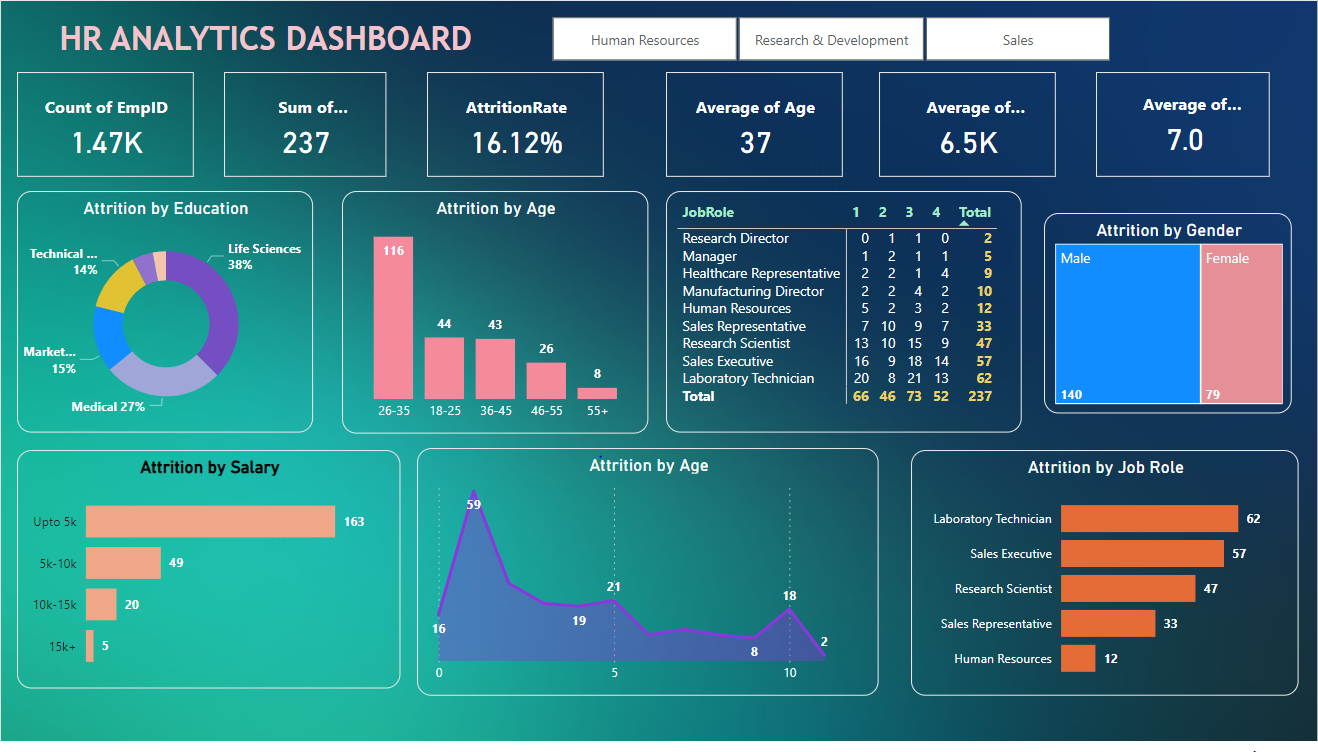

What the dashboard file says about the page in this screenshot:
{"tool":"powerbi","page":{"name":"Page 1","canvas":[1280,720],"ordinal":0},"visuals":[{"type":"cardVisual","title":"Count of Employee","fields":{"Data":["CountNonNull(HR_Analytics.EmpID)"]},"box":[15.6,69.1,172.2,102.1],"z":0},{"type":"cardVisual","title":"Attrition","fields":{"Data":["Sum(HR_Analytics.AttritionCount)"]},"box":[216.9,69.1,157.6,102.1],"z":1000},{"type":"cardVisual","fields":{"Data":["HR_Analytics.AttritionRate"]},"box":[414.3,69.1,172.2,102.1],"z":2000},{"type":"cardVisual","fields":{"Data":["Avg(HR_Analytics.Age)"]},"box":[646.8,69.1,172.2,102.1],"z":3000},{"type":"cardVisual","title":"Avg Years","fields":{"Data":["Avg(HR_Analytics.YearsAtCompany)"]},"box":[1065,69.1,169.2,102.1],"z":4000},{"type":"cardVisual","fields":{"Data":["Avg(HR_Analytics.MonthlyIncome)"]},"box":[854,69.1,172.2,102.1],"z":5000},{"type":"donutChart","title":"Attrition by Education","fields":{"Category":["HR_Analytics.EducationField"],"Y":["Sum(HR_Analytics.AttritionCount)"]},"box":[15.6,184.8,287.9,235.4],"z":6000},{"type":"columnChart","title":"Attrition by Age","fields":{"Category":["HR_Analytics.AgeGroup"],"Y":["Sum(HR_Analytics.AttritionCount)"]},"box":[331.7,184.8,297.6,236.4],"z":7000},{"type":"pivotTable","fields":{"Rows":["HR_Analytics.JobRole"],"Columns":["HR_Analytics.JobSatisfaction"],"Values":["Sum(HR_Analytics.AttritionCount)"]},"box":[646.8,184.8,346.3,235.4],"z":8000},{"type":"barChart","title":"Attrition by Salary","fields":{"Category":["HR_Analytics.SalarySlab"],"Y":["Sum(HR_Analytics.AttritionCount)"]},"box":[15.6,436.7,373.5,232.5],"z":9000},{"type":"barChart","title":"Attrition by Job Role","fields":{"Category":["HR_Analytics.JobRole"],"Y":["Sum(HR_Analytics.AttritionCount)"]},"box":[885.1,436.7,377.4,239.3],"z":10000},{"type":"areaChart","title":"Attrition by Age","fields":{"Category":["HR_Analytics.YearsAtCompany"],"Y":["Sum(HR_Analytics.AttritionCount)"]},"box":[404.6,434.8,449.4,241.2],"z":11000},{"type":"treemap","title":"Attrition by Gender","fields":{"Group":["HR_Analytics.Gender"],"Values":["Sum(HR_Analytics.AttritionCount)"]},"box":[1014.5,206.2,241.2,194.5],"z":12000},{"type":"slicer","fields":{"Values":["HR_Analytics.Department"]},"box":[510.6,8.8,592.3,56.4],"z":13000},{"type":"textbox","box":[51.6,12.6,428.9,48.6],"z":14000}]}

Visuals, with their boxes in screenshot pixels (x1, y1, x2, y2), scaled from the page's 1280x720 canvas onto the 1318x752 screenshot:
"Count of Employee" cardVisual: 16:72:193:179
"Attrition" cardVisual: 223:72:386:179
cardVisual - HR_Analytics.AttritionRate: 427:72:604:179
cardVisual - Avg(HR_Analytics.Age): 666:72:843:179
"Avg Years" cardVisual: 1097:72:1271:179
cardVisual - Avg(HR_Analytics.MonthlyIncome): 879:72:1057:179
"Attrition by Education" donutChart: 16:193:313:439
"Attrition by Age" columnChart: 342:193:648:440
pivotTable - HR_Analytics.JobRole x HR_Analytics.JobSatisfaction: 666:193:1023:439
"Attrition by Salary" barChart: 16:456:401:699
"Attrition by Job Role" barChart: 911:456:1300:706
"Attrition by Age" areaChart: 417:454:879:706
"Attrition by Gender" treemap: 1045:215:1293:419
slicer - HR_Analytics.Department: 526:9:1136:68
textbox: 53:13:495:64
